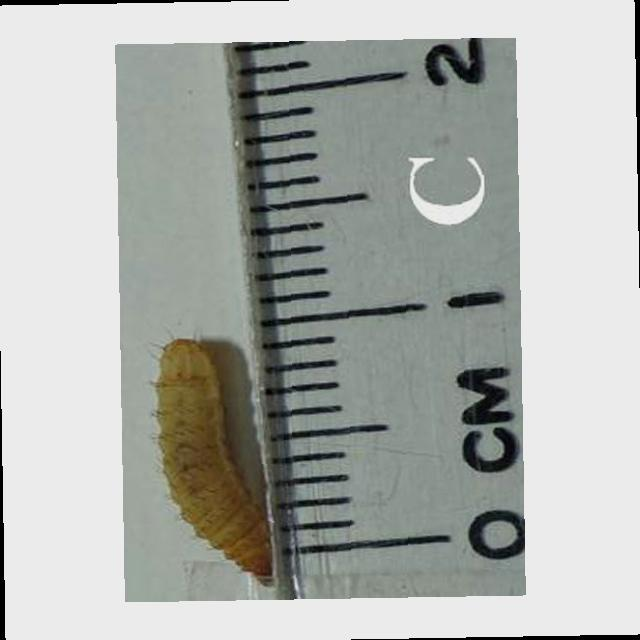Maggot: (154, 337, 280, 586)
